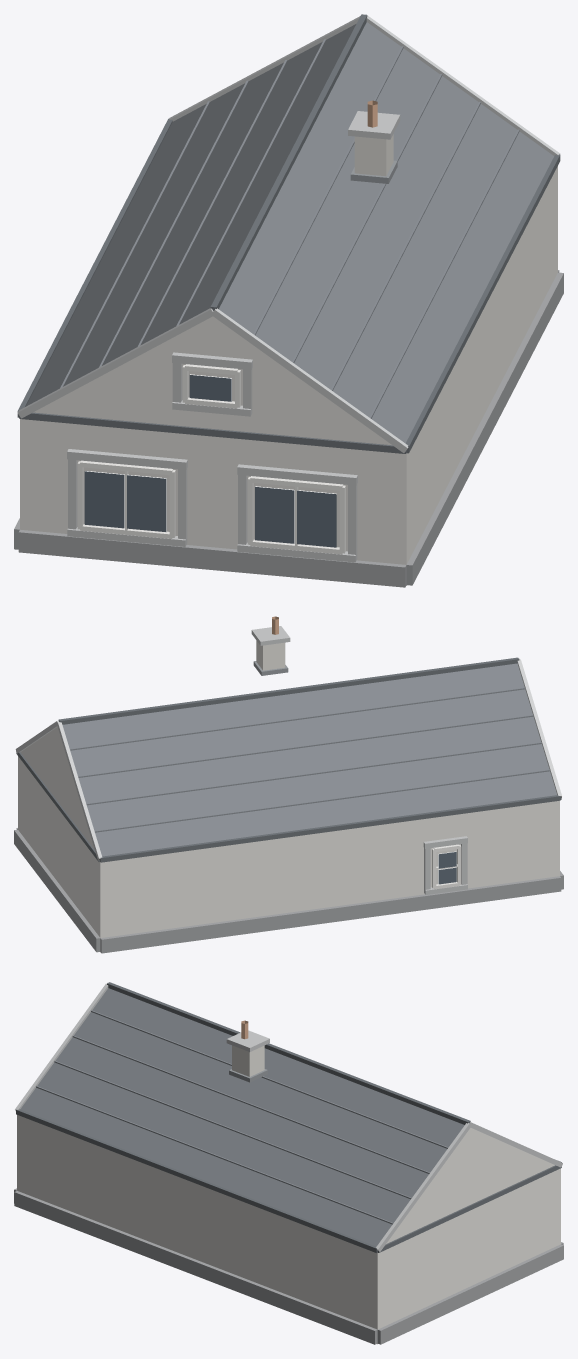
3 renders of one model, top to bottom at view 1: azimuth 30°, elevation 25°; view 2: azimuth 150°, elevation 25°; view 3: azimuth 270°, elevation 25°, orthographic. The views are drawn at different scales.
Visible parts, largest first — view 1: slate, harl, stone_band, plinth, slate_dk, slate_lt, frame, window_glass_004, window_glass_001, window_glass_002, window_glass_003, chim_render (+1 smaller); view 2: slate, harl, plinth, slate_dk, slate_lt, stone_band, chim_render, frame; view 3: slate, harl, plinth, slate_dk, slate_lt, stone_band, chim_render.
Part boxes in pixels (x1,y1,x2,y2): slate: (26, 22, 553, 443); harl: (20, 166, 557, 585); stone_band: (17, 15, 560, 562); plinth: (14, 270, 563, 587); slate_dk: (17, 14, 560, 453); slate_lt: (60, 39, 519, 418); frame: (77, 364, 345, 554); window_glass_004: (84, 471, 124, 528); window_glass_001: (297, 490, 336, 547); window_glass_002: (255, 486, 294, 543); window_glass_003: (127, 474, 166, 531); chim_render: (354, 134, 393, 176); slate: (62, 663, 556, 856); harl: (18, 727, 559, 952); plinth: (14, 828, 563, 953); slate_dk: (16, 657, 561, 862); slate_lt: (70, 687, 549, 832); stone_band: (15, 626, 561, 894); chim_render: (256, 640, 285, 670); frame: (432, 844, 461, 889); slate: (20, 988, 464, 1246); harl: (17, 1115, 560, 1344); plinth: (14, 1188, 563, 1344); slate_dk: (16, 982, 561, 1252); slate_lt: (36, 1010, 448, 1224); stone_band: (15, 983, 562, 1251); chim_render: (232, 1045, 264, 1076).
Size of the model in its own units: 13.99 by 6.54 by 14.34.
